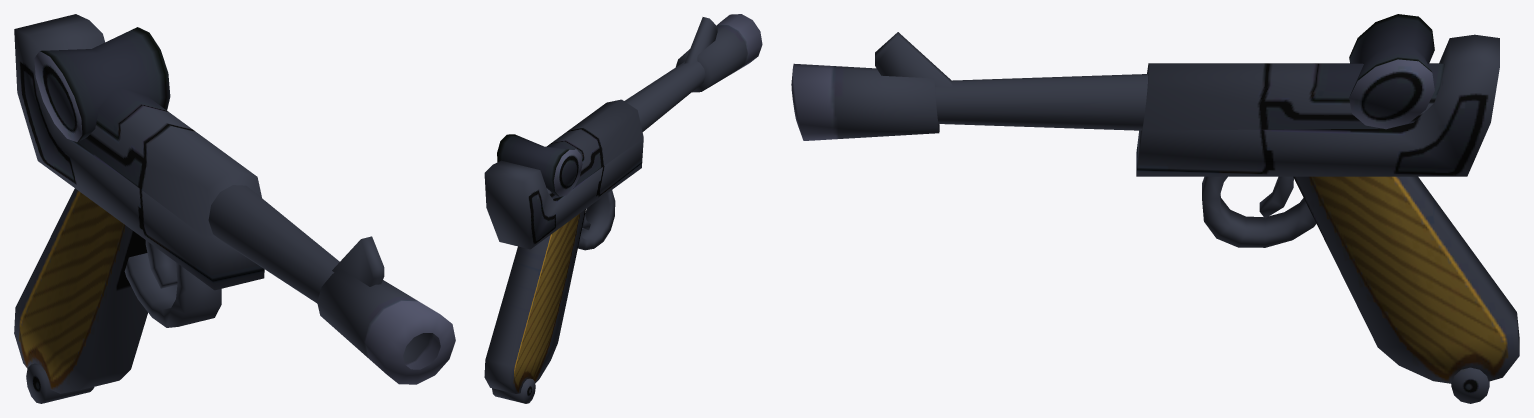
Rendered from Max's gun.obj.
3 renders of one model, left to right at view 1: azimuth 30°, elevation 25°; view 2: azimuth 150°, elevation 25°; view 3: azimuth 270°, elevation 25°, orthographic. The views are drawn at different scales.
Visible parts, largest first — view 1: Mesh_0153.rip; view 2: Mesh_0153.rip; view 3: Mesh_0153.rip.
Boxes of the visible parts, x1,y1,x2,y2 form: Mesh_0153.rip: [14, 14, 455, 403]; Mesh_0153.rip: [484, 14, 762, 403]; Mesh_0153.rip: [791, 14, 1519, 403].
Bounding box in the file's own units: 0.6826 × 2.51 × 4.62.
Materials: 1 (1 with a texture image).
